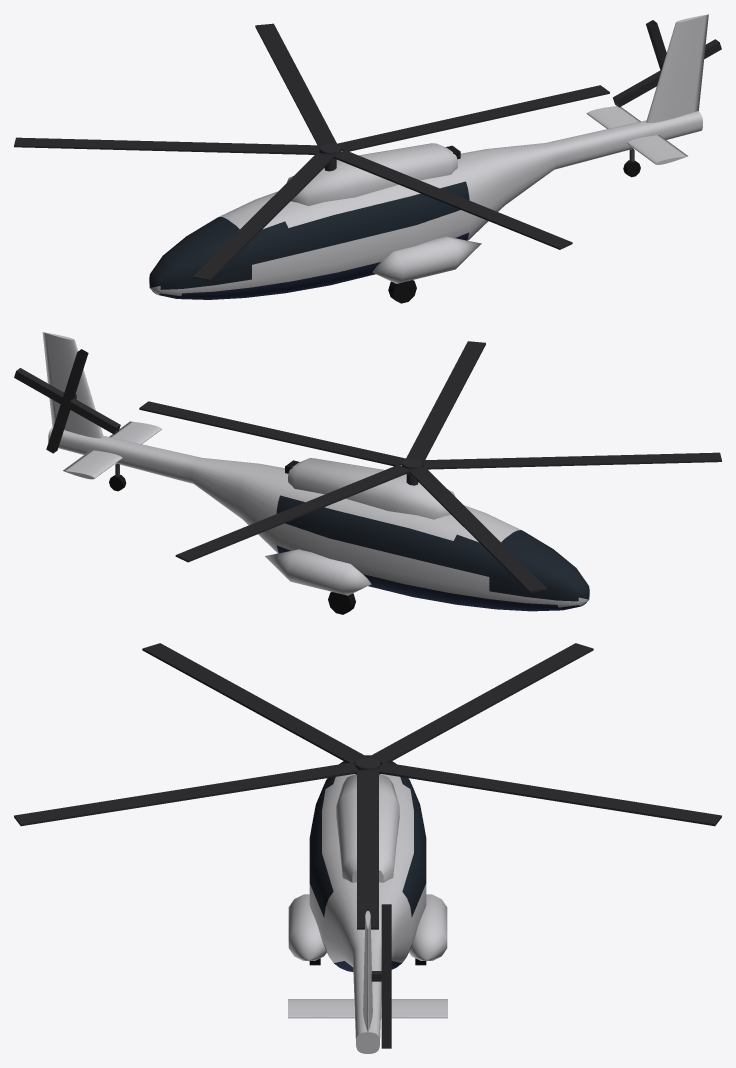
The picture shows the model from 3 angles, top to bottom: view 1: azimuth 30°, elevation 25°; view 2: azimuth 150°, elevation 25°; view 3: azimuth 270°, elevation 25°; orthographic projection. The views are drawn at different scales.
Visible parts, largest first — view 1: a139; view 2: a139; view 3: a139.
Boxes of the visible parts, bbox=[...] form: a139: bbox=[14, 14, 721, 303]; a139: bbox=[14, 332, 721, 614]; a139: bbox=[14, 643, 721, 1053].
Size of the model in its own units: 15.68 by 4.55 by 13.25.
